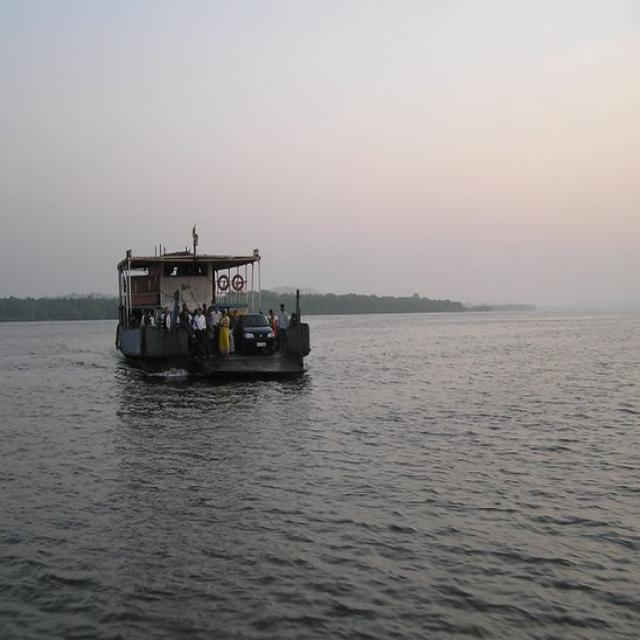cargoship: (89, 253, 332, 399)
